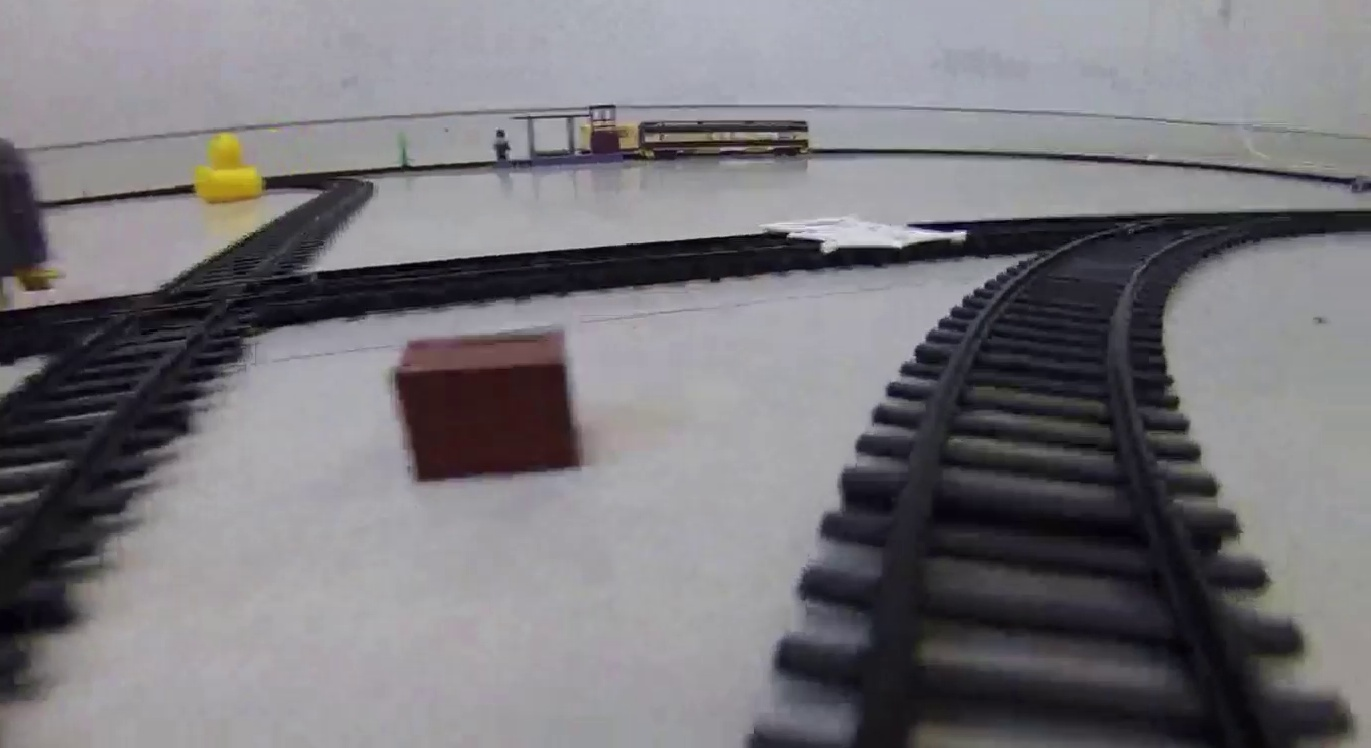box: (397, 329, 584, 469)
web: (760, 214, 969, 255)
